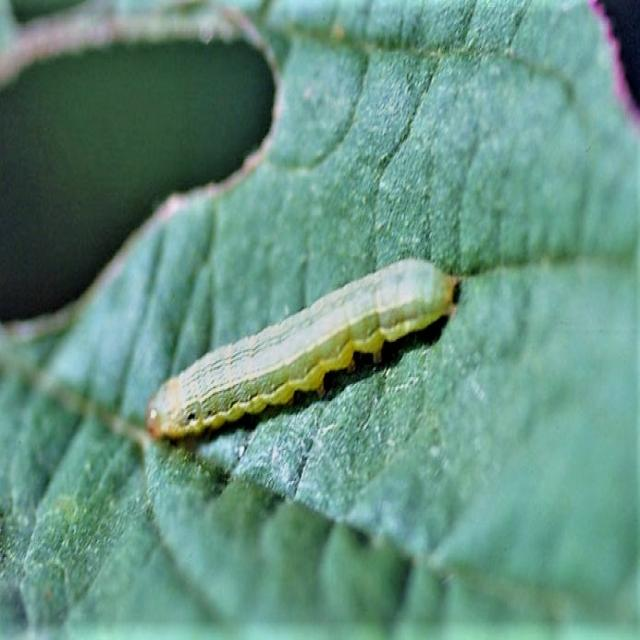armyworm: (144, 254, 462, 442)
